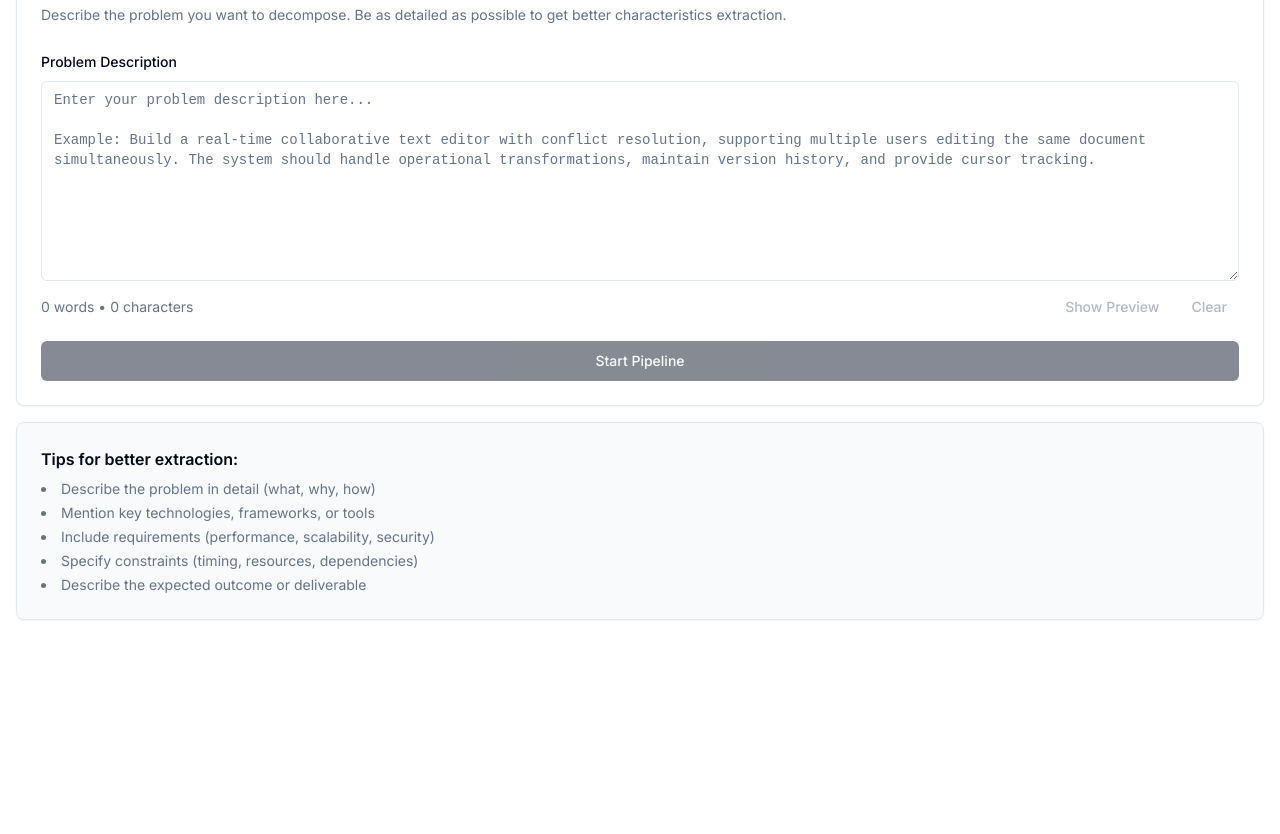
Test: ProblemInputDisplay › Characteristics Extraction › should display all characteristic sections
Replace the text in the text box named "Problem description input" with "Build a complex real-time system with APIs and data processing" at (640, 181), box [41,81,1239,281]
Wait 500 ms
(page scrolled)
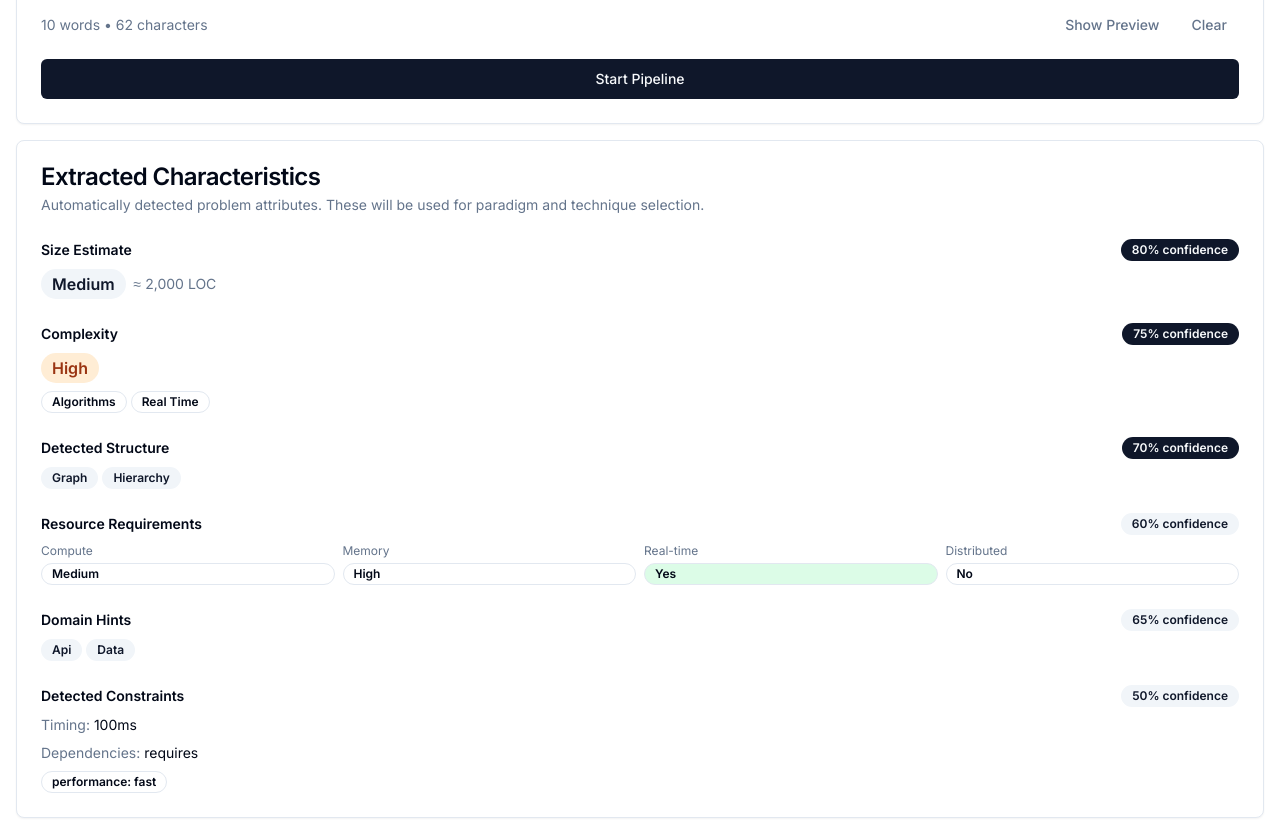
Expected: the heading "Size Estimate" is shown, [41,240,132,260]
Expected: the heading "Complexity" is shown, [41,324,118,344]
Expected: the heading "Detected Structure" is shown, [41,438,169,458]
